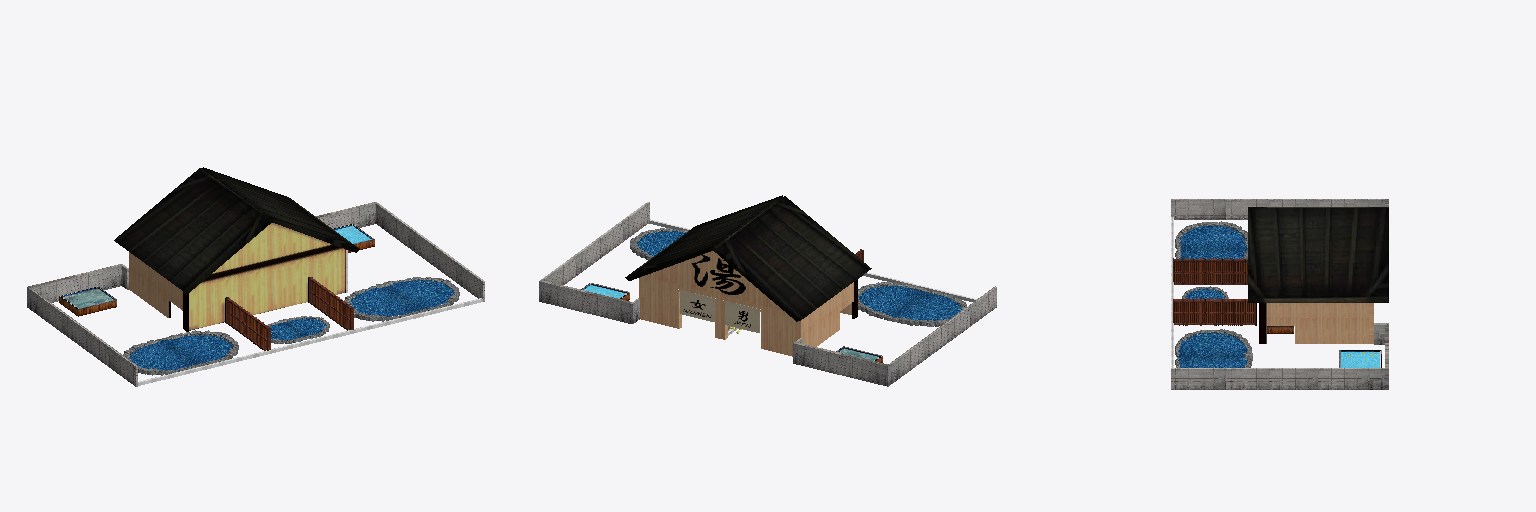
3 views of the same model, side by side, from view 1: azimuth 30°, elevation 25°; view 2: azimuth 150°, elevation 25°; view 3: azimuth 270°, elevation 25° (orthographic).
Bounding box in the file's own units: 38.13 × 10.17 × 20.67.
Materials: 1 (1 with a texture image).